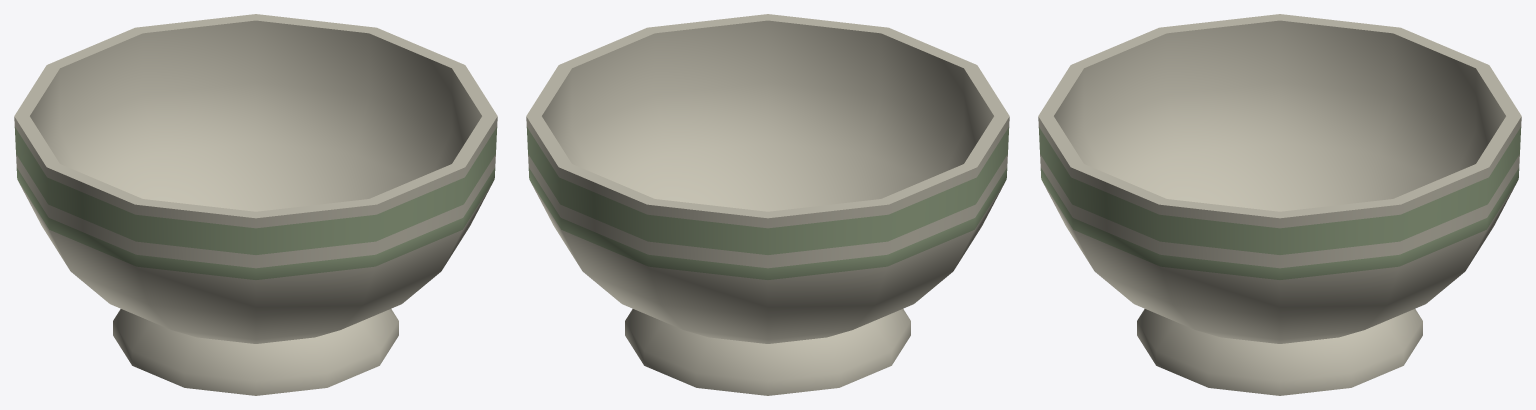
The model's file is Bowl_02.fbx.
3 views of the same model, side by side, from view 1: azimuth 30°, elevation 25°; view 2: azimuth 150°, elevation 25°; view 3: azimuth 270°, elevation 25° (orthographic).
Parts seen in each view (by area): view 1: Bowl_02; view 2: Bowl_02; view 3: Bowl_02.
Boxes of the visible parts, bbox=[...] form: Bowl_02: bbox=[14, 14, 497, 395]; Bowl_02: bbox=[526, 14, 1009, 395]; Bowl_02: bbox=[1038, 14, 1521, 395].
Bounding box in the file's own units: 0.2024 × 0.1013 × 0.2024.
